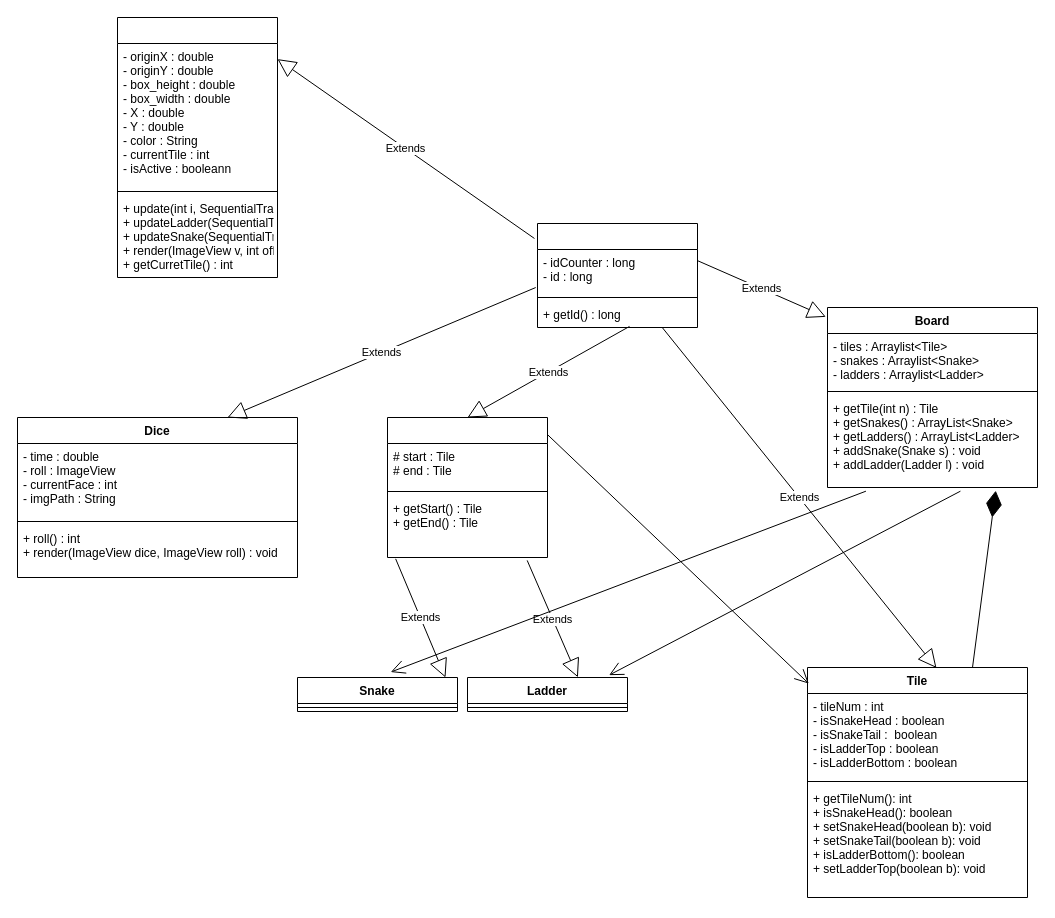
Some shapes in this 1055 by 918 pixel diagram are drawn without their labels. The shapes that lost their labels are listed below. From the top down, each one's box as (x1, y1, x2, y2) in pixels, then its label:
(116, 16, 278, 278): Player
(536, 222, 698, 328): GameObject
(386, 416, 548, 558): Tunnel
